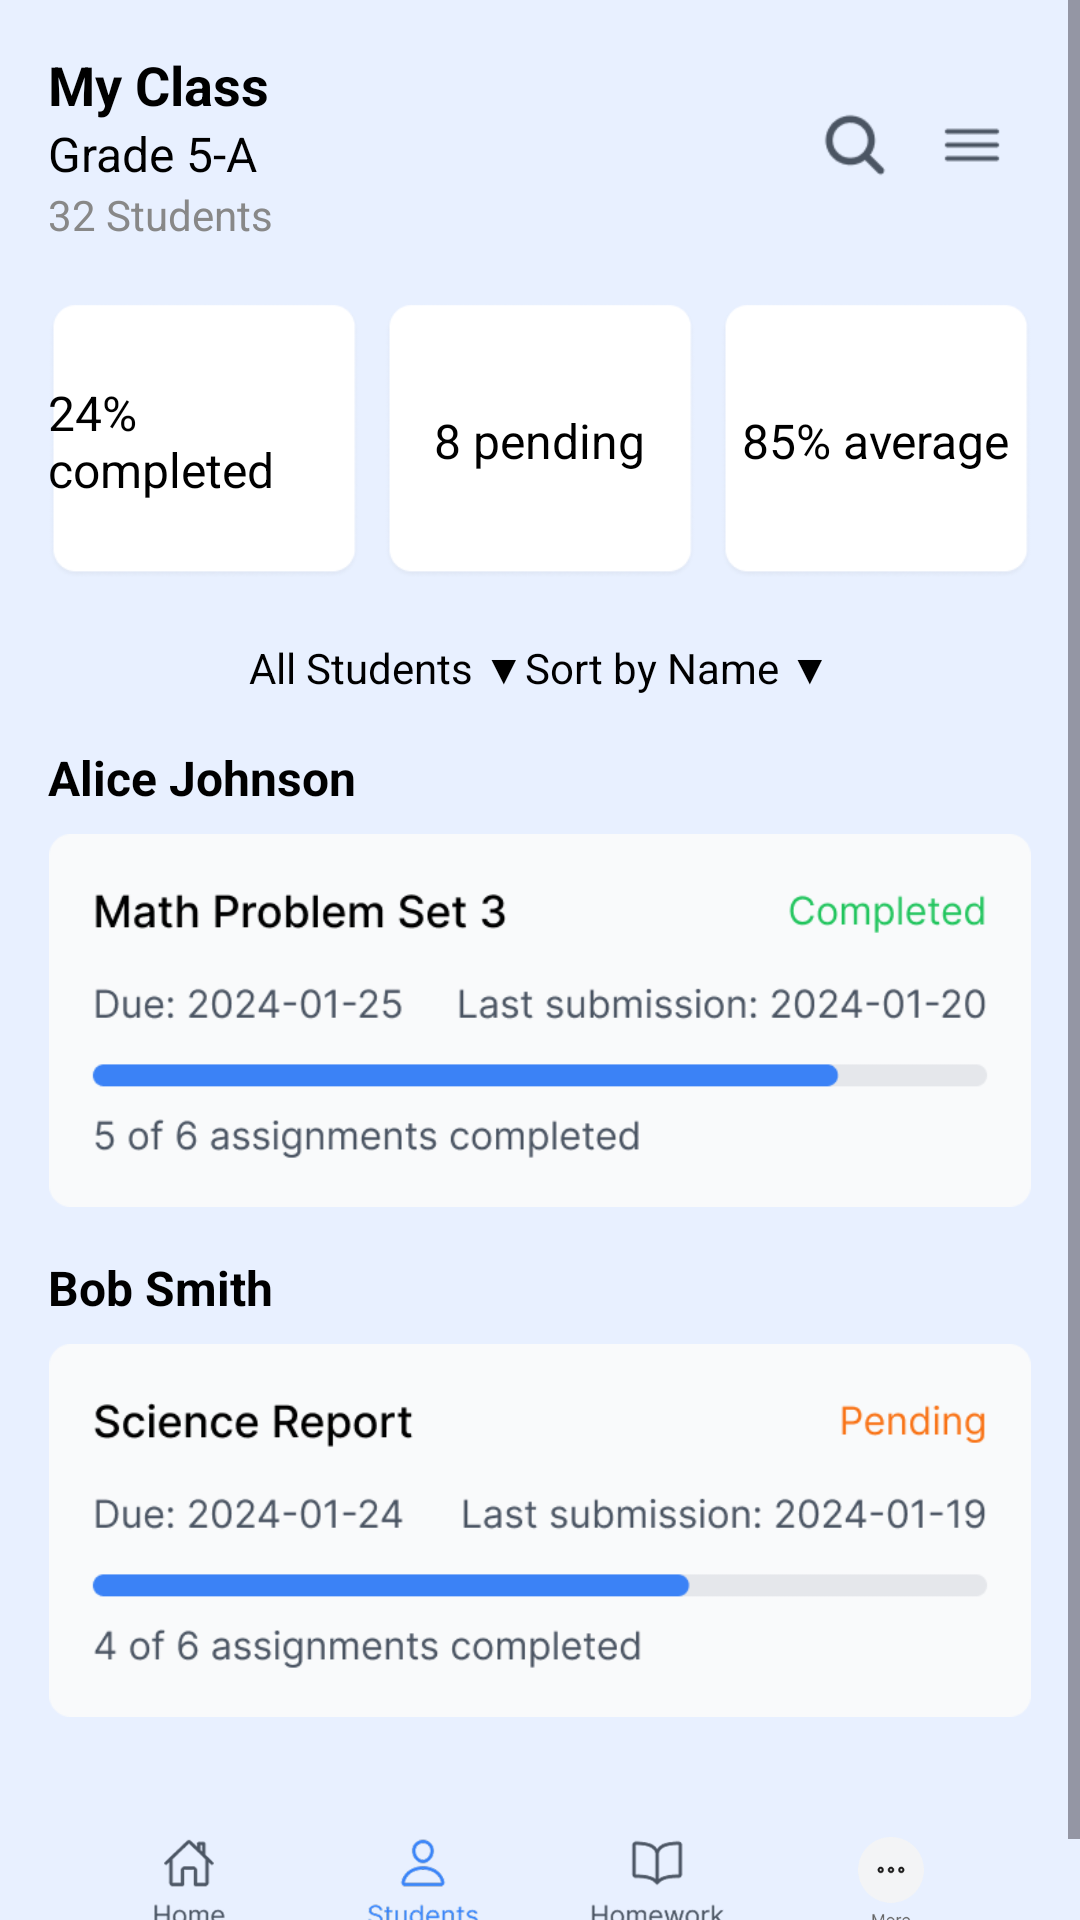

Icon click points for this 1080 x 1920 phone screenshot, format (x,y):
search: (855,145)
